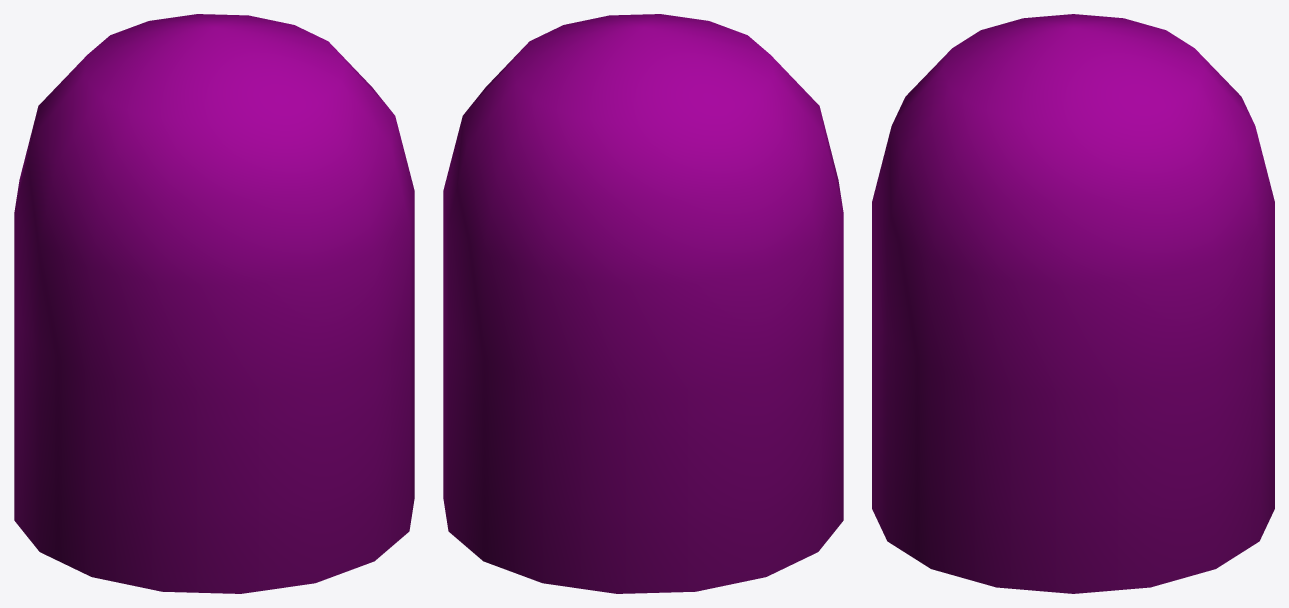
Rendered from Arm_Sleeve_L_09_R.fbx.
The picture shows the model from 3 angles, left to right: view 1: azimuth 30°, elevation 25°; view 2: azimuth 150°, elevation 25°; view 3: azimuth 270°, elevation 25°; orthographic projection.
Visible parts, largest first — view 1: Arm_Sleeve_L_09_R; view 2: Arm_Sleeve_L_09_R; view 3: Arm_Sleeve_L_09_R.
Part boxes in pixels (bbox=[...]): Arm_Sleeve_L_09_R: bbox=[14, 14, 414, 593]; Arm_Sleeve_L_09_R: bbox=[443, 14, 843, 593]; Arm_Sleeve_L_09_R: bbox=[872, 14, 1274, 593].
Size of the model in its own units: 48.18 by 63.45 by 48.18.
